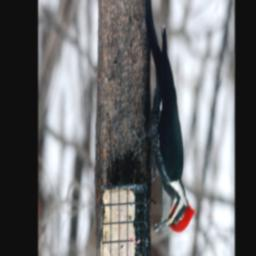Woodpecker: (131, 0, 195, 238)
